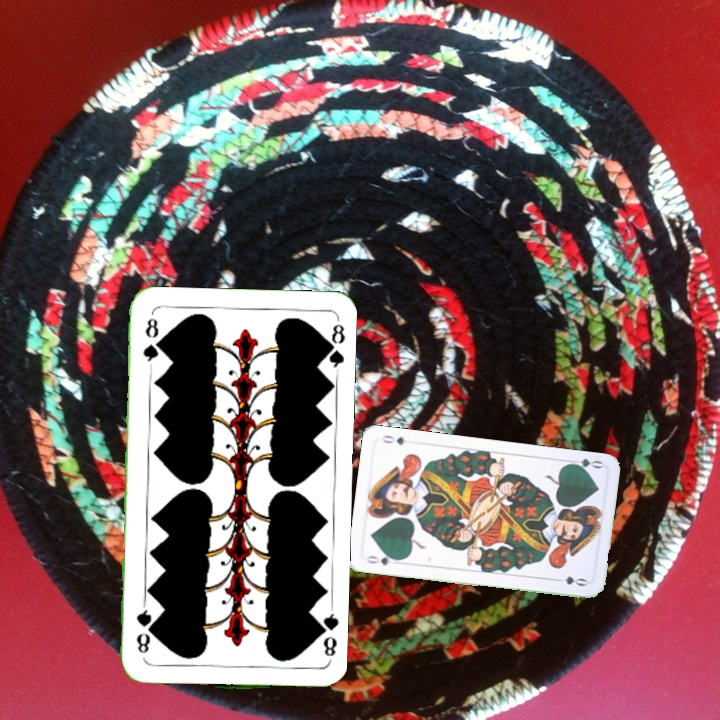G8: (312, 606, 340, 665), (139, 314, 162, 370)
GO: (564, 454, 605, 474), (363, 551, 403, 568)
